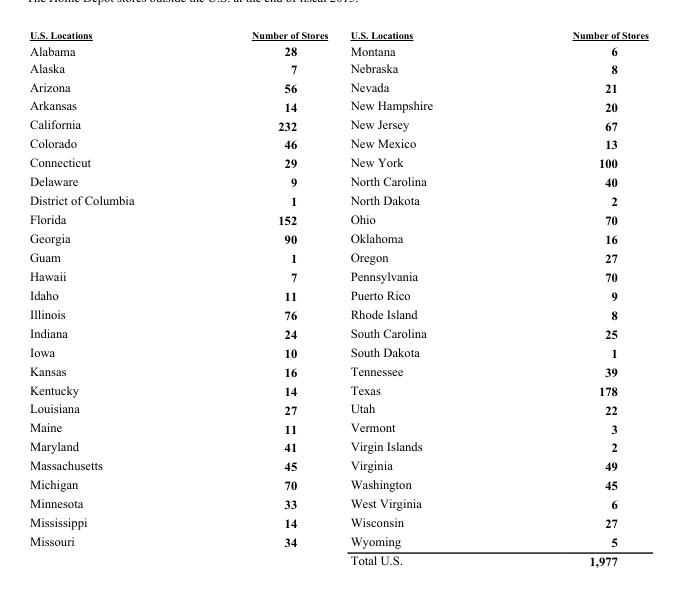table: (28, 28, 648, 567)
table column: (28, 28, 192, 567), (338, 28, 501, 567), (501, 28, 648, 567), (192, 28, 338, 567)
table column header: (28, 28, 648, 41)
table row: (28, 77, 648, 96), (28, 96, 648, 115), (28, 115, 648, 134), (28, 134, 648, 153), (28, 153, 648, 172), (28, 190, 648, 209), (28, 209, 648, 228), (28, 228, 648, 247), (28, 247, 648, 266), (28, 266, 648, 285), (28, 285, 648, 304), (28, 304, 648, 323), (28, 323, 648, 342), (28, 342, 648, 361), (28, 361, 648, 380), (28, 380, 648, 399), (28, 399, 648, 418), (28, 418, 648, 437), (28, 437, 648, 456), (28, 456, 648, 475), (28, 475, 648, 494), (28, 512, 648, 531), (28, 531, 648, 550), (28, 41, 648, 59), (28, 59, 648, 77), (28, 172, 648, 190), (28, 494, 648, 512), (28, 550, 648, 567), (28, 28, 648, 41)
